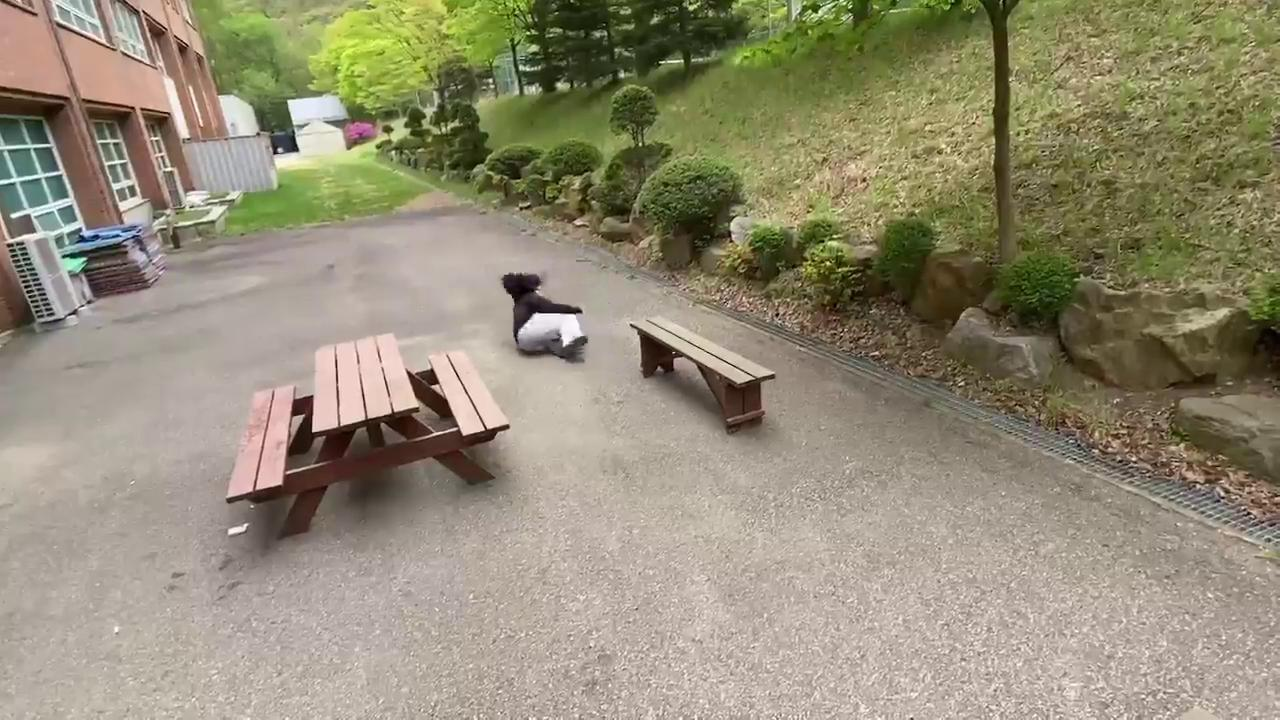fall_down: (498, 264, 594, 360)
